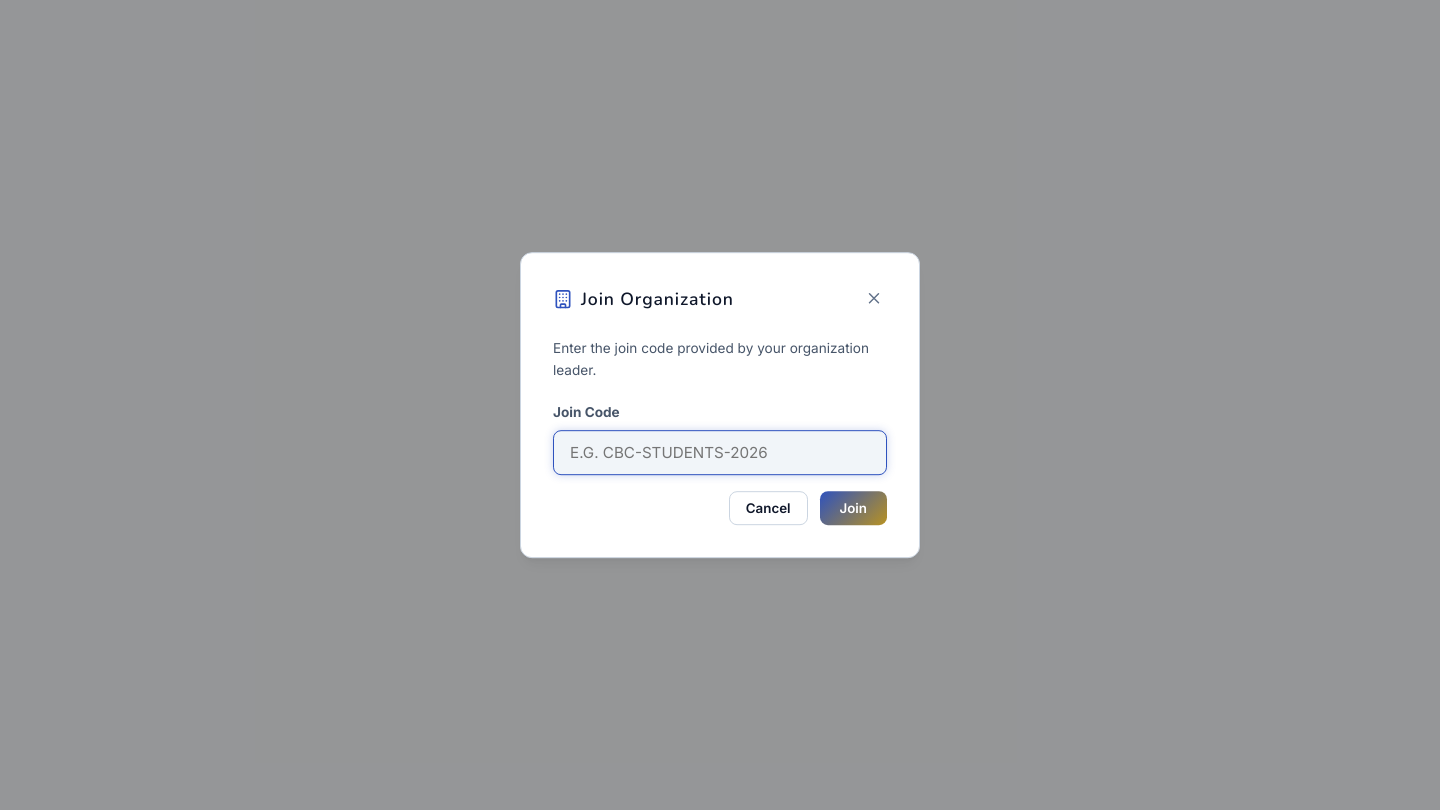
Test: JoinOrgModal › shows success message after joining
The width and height of the screenshot is (1440, 810).
Type "VALID-CODE" into the field labelled "Join Code" at (720, 452), box 553,430 -> 887,475
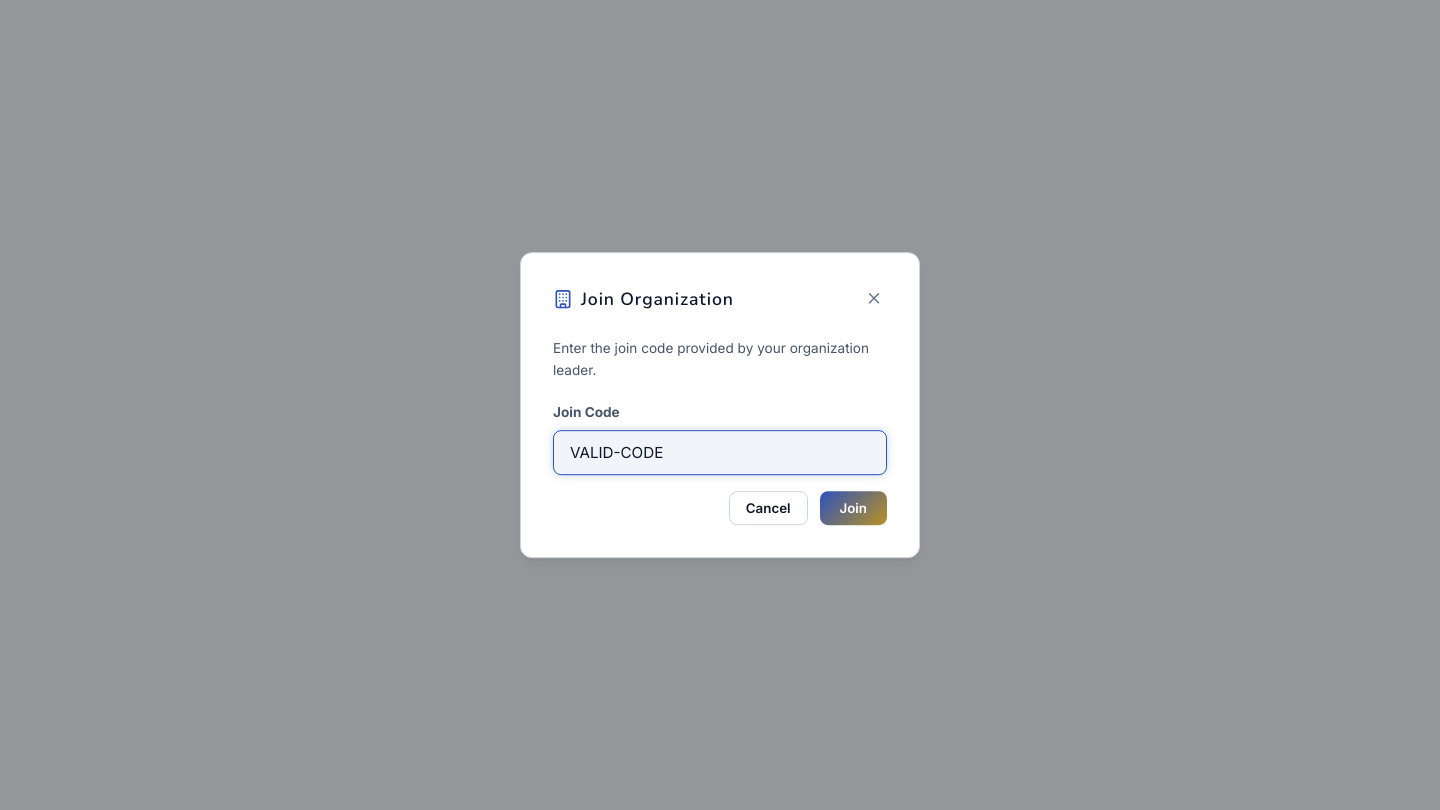
Click the button "Join" at (853, 508), box 820,491 -> 887,525
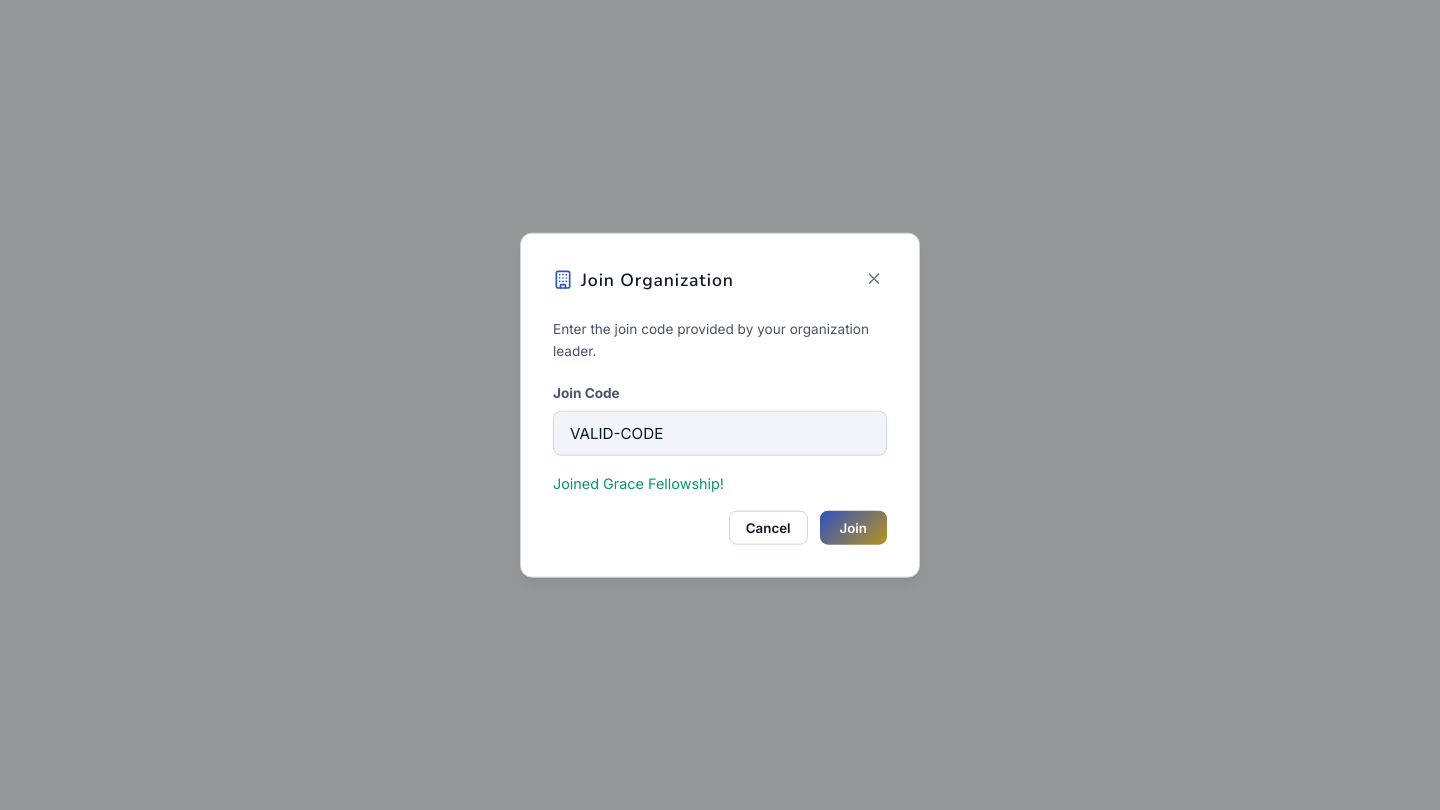
Now the text "Joined Grace Fellowship!" is shown, box 553,474 -> 724,491
